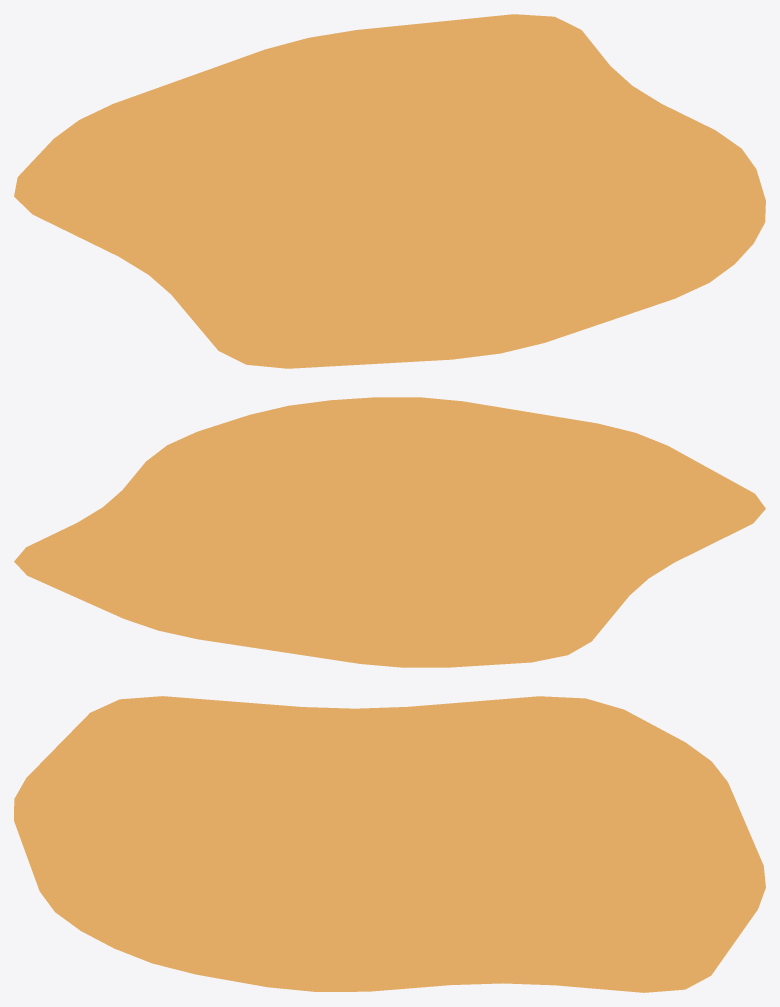
File: Dirt_C.fbx
3 renders of one model, top to bottom at view 1: azimuth 30°, elevation 25°; view 2: azimuth 150°, elevation 25°; view 3: azimuth 270°, elevation 25°, orthographic. The views are drawn at different scales.
Parts seen in each view (by area): view 1: Dirt_C; view 2: Dirt_C; view 3: Dirt_C.
Boxes of the visible parts, x1,y1,x2,y2 form: Dirt_C: [14, 14, 765, 368]; Dirt_C: [14, 397, 765, 667]; Dirt_C: [14, 696, 765, 992].
Bounding box in the file's own units: 427 × 0 × 457.
